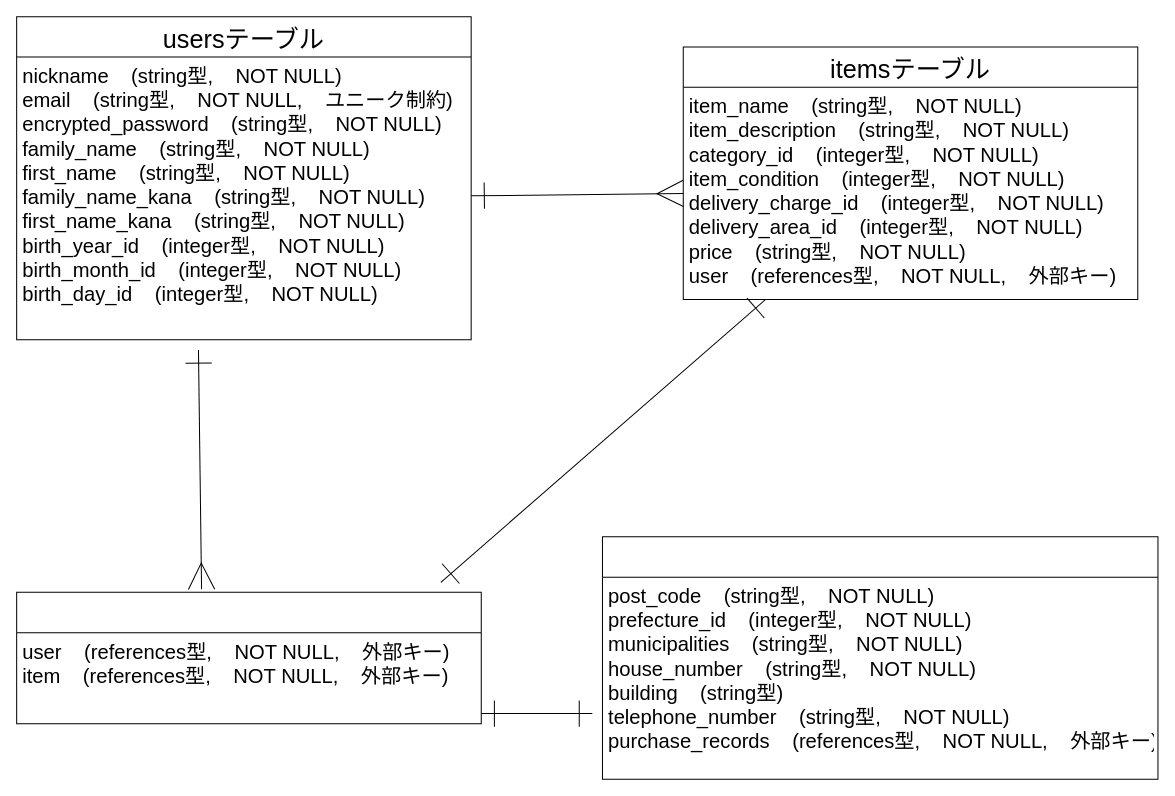
Image size: 1175x796. Some labels were removed from this diagram. The box of each missing label's shape, as (x1, y1, x2, y2) in pixels:
delivery_addressesテーブル: (601, 536, 1158, 779)
purchase_recordsテーブル: (16, 591, 481, 724)
